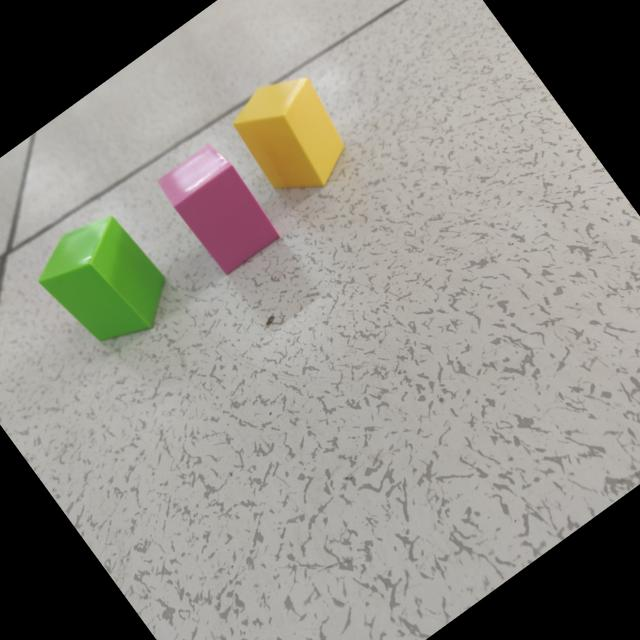green: (38, 215, 167, 343)
pink: (159, 145, 280, 274)
yellow: (234, 76, 346, 191)
